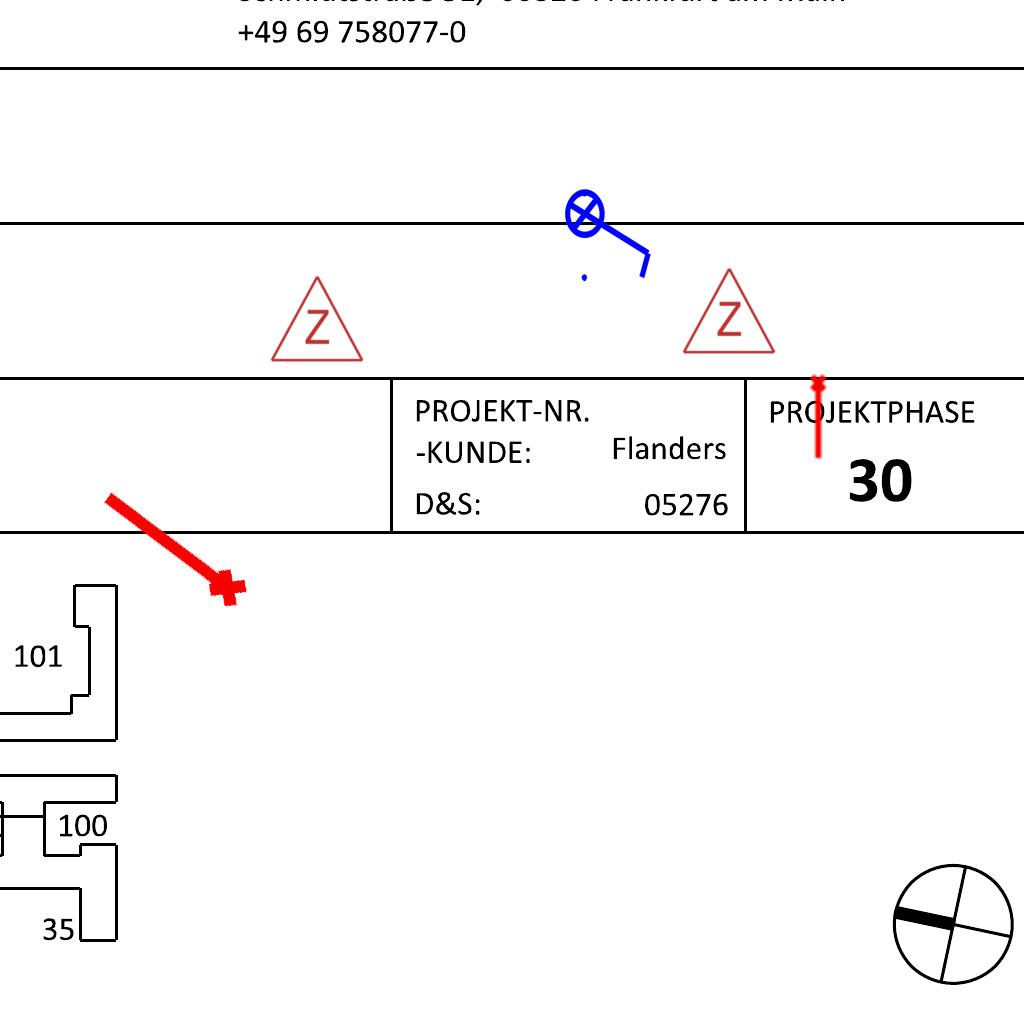ASR_Ansaugoeffnung: (87, 477, 257, 621), (808, 373, 831, 461)
Ausschalter_beleuchtet: (563, 175, 659, 287)
Zimmersignalleuchte: (679, 261, 777, 361), (267, 269, 365, 369)
